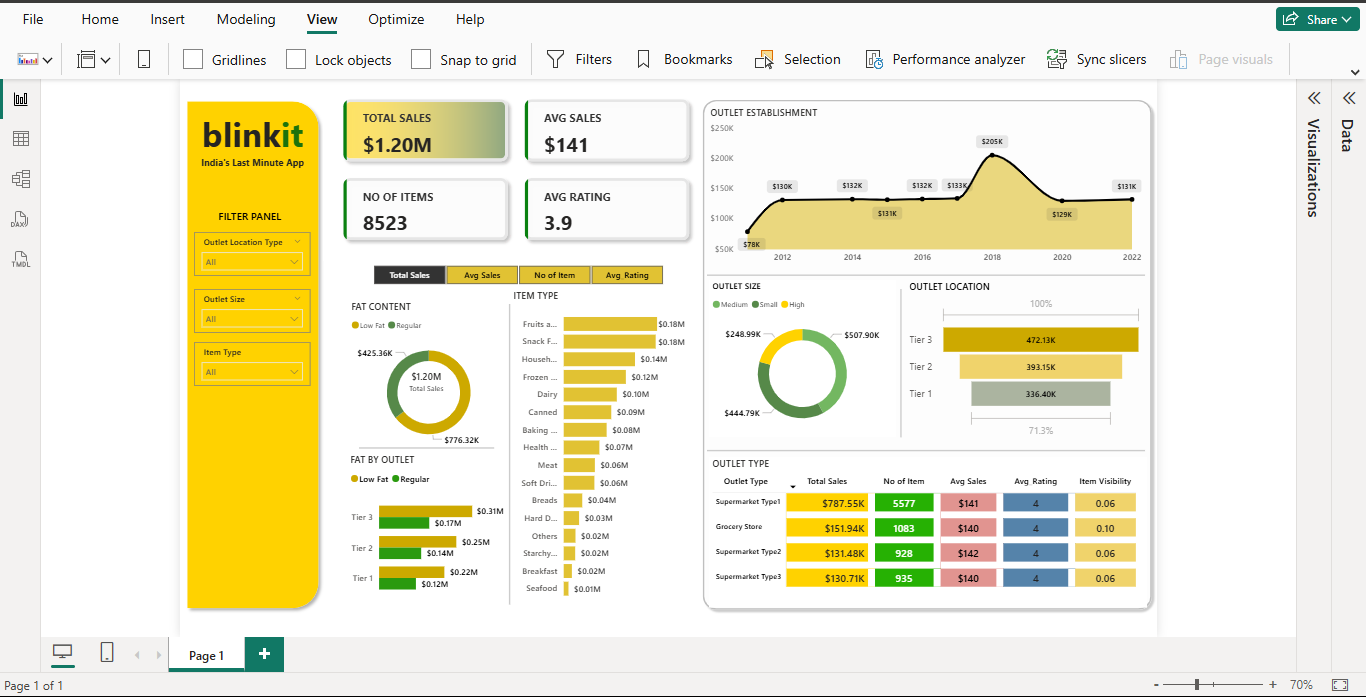

The dashboard page shown, as its layout file describes it:
{"tool":"powerbi","page":{"name":"Page 1","canvas":[1400,800],"ordinal":0},"visuals":[{"type":"shape","box":[1.2,22.5,206.2,745],"z":0},{"type":"textbox","box":[14.3,40,180,80],"z":1000},{"type":"textbox","box":[14.3,105.7,180,48.6],"z":2000},{"type":"cardVisual","fields":{"Data":["BlinkIT Grocery Data.Total Sales","BlinkIT Grocery Data.Avg Sales","BlinkIT Grocery Data.No of Item","BlinkIT Grocery Data.Avg_Rating"]},"box":[205,0,554.3,261.4],"z":3000},{"type":"shape","box":[742.5,22.5,657.5,745],"z":4000},{"type":"donutChart","title":"FAT CONTENT","fields":{"Y":["BlinkIT Grocery Data.No of Item"],"Category":["BlinkIT Grocery Data.Item Fat Content"]},"box":[240.9,316.5,231.5,220.5],"z":5000},{"type":"slicer","fields":{"Values":["Metrics.Metrics"]},"box":[252.9,261.4,464.3,40],"z":6000},{"type":"cardVisual","fields":{"Data":["BlinkIT Grocery Data.No of Item"]},"box":[295,400,116.2,68.8],"z":7000},{"type":"clusteredBarChart","title":" FAT BY OUTLET","fields":{"Y":["BlinkIT Grocery Data.No of Item"],"Category":["BlinkIT Grocery Data.Outlet Location Type"],"Series":["BlinkIT Grocery Data.Item Fat Content"]},"box":[238.8,536.2,230,220],"z":8000},{"type":"shape","box":[256.2,518.8,193.8,20],"z":9000},{"type":"shape","box":[458.8,322.5,27.5,431.2],"z":10000},{"type":"barChart","title":"ITEM TYPE","fields":{"Y":["BlinkIT Grocery Data.No of Item"],"Category":["BlinkIT Grocery Data.Item Type"]},"box":[472.5,301.2,256.2,455],"z":11000},{"type":"lineChart","title":"OUTLET ESTABLISHMENT","fields":{"Category":["BlinkIT Grocery Data.Outlet Establishment Year"],"Y":["BlinkIT Grocery Data.Total Sales"]},"box":[755.9,39.4,628.3,234.6],"z":12000},{"type":"donutChart","title":"OUTLET SIZE","fields":{"Y":["BlinkIT Grocery Data.Total Sales"],"Category":["BlinkIT Grocery Data.Outlet Size"]},"box":[759.1,288.2,267.7,225.2],"z":13000},{"type":"shape","box":[755.9,263,628.3,37.8],"z":14000},{"type":"shape","box":[1026.8,300.8,14.2,212.6],"z":15000},{"type":"funnel","title":"OUTLET LOCATION","fields":{"Y":["Sum(BlinkIT Grocery Data.Sales)"],"Category":["BlinkIT Grocery Data.Outlet Location Type"]},"box":[1040.9,288.2,343.3,231.5],"z":16000},{"type":"shape","box":[755.9,522.8,628.3,18.9],"z":17000},{"type":"pivotTable","title":"OUTLET TYPE","fields":{"Rows":["BlinkIT Grocery Data.Outlet Type"],"Values":["BlinkIT Grocery Data.Total Sales","BlinkIT Grocery Data.No of Item","BlinkIT Grocery Data.Avg Sales","BlinkIT Grocery Data.Avg_Rating","Avg(BlinkIT Grocery Data.Item Visibility)"]},"box":[759.1,541.7,628.3,215.7],"z":18000},{"type":"slicer","fields":{"Values":["BlinkIT Grocery Data.Outlet Location Type"]},"box":[20.5,218.9,166.9,63],"z":19000},{"type":"slicer","fields":{"Values":["BlinkIT Grocery Data.Outlet Size"]},"box":[20.5,300.8,166.9,63],"z":20000},{"type":"slicer","fields":{"Values":["BlinkIT Grocery Data.Item Type"]},"box":[20.5,376.4,166.9,63],"z":21000},{"type":"textbox","box":[50.4,181.1,107.1,37.8],"z":22000}]}

Visuals, with their boxes on the page's 1400x800 design canvas (x1, y1, x2, y2). These are canvas units, not pixel positions in the 1366x697 screenshot, which may show the page scaled, cropped or inside an application window:
shape: [left=1, top=22, right=207, bottom=768]
textbox: [left=14, top=40, right=194, bottom=120]
textbox: [left=14, top=106, right=194, bottom=154]
cardVisual - BlinkIT Grocery Data.Total Sales x BlinkIT Grocery Data.Avg Sales: [left=205, top=0, right=759, bottom=261]
shape: [left=742, top=22, right=1400, bottom=768]
"FAT CONTENT" donutChart: [left=241, top=316, right=472, bottom=537]
slicer - Metrics.Metrics: [left=253, top=261, right=717, bottom=301]
cardVisual - BlinkIT Grocery Data.No of Item: [left=295, top=400, right=411, bottom=469]
" FAT BY OUTLET" clusteredBarChart: [left=239, top=536, right=469, bottom=756]
shape: [left=256, top=519, right=450, bottom=539]
shape: [left=459, top=322, right=486, bottom=754]
"ITEM TYPE" barChart: [left=472, top=301, right=729, bottom=756]
"OUTLET ESTABLISHMENT" lineChart: [left=756, top=39, right=1384, bottom=274]
"OUTLET SIZE" donutChart: [left=759, top=288, right=1027, bottom=513]
shape: [left=756, top=263, right=1384, bottom=301]
shape: [left=1027, top=301, right=1041, bottom=513]
"OUTLET LOCATION" funnel: [left=1041, top=288, right=1384, bottom=520]
shape: [left=756, top=523, right=1384, bottom=542]
"OUTLET TYPE" pivotTable: [left=759, top=542, right=1387, bottom=757]
slicer - BlinkIT Grocery Data.Outlet Location Type: [left=20, top=219, right=187, bottom=282]
slicer - BlinkIT Grocery Data.Outlet Size: [left=20, top=301, right=187, bottom=364]
slicer - BlinkIT Grocery Data.Item Type: [left=20, top=376, right=187, bottom=439]
textbox: [left=50, top=181, right=158, bottom=219]
